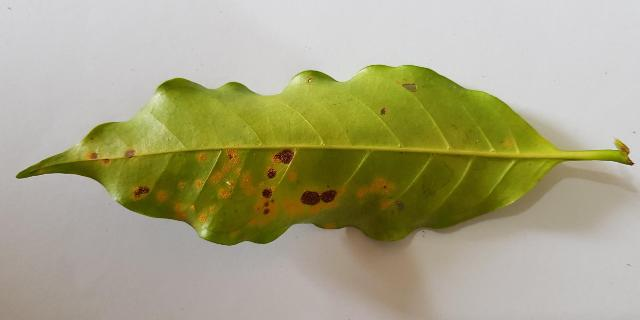miner: (236, 168, 345, 225), (356, 178, 395, 211), (210, 148, 239, 182), (265, 148, 294, 179), (173, 202, 195, 222), (85, 152, 111, 166), (218, 181, 235, 198), (132, 185, 150, 201), (198, 206, 215, 222), (157, 190, 167, 201), (322, 222, 336, 229), (125, 149, 135, 158), (198, 151, 206, 162), (195, 180, 203, 188), (288, 172, 296, 180), (178, 182, 186, 188)
